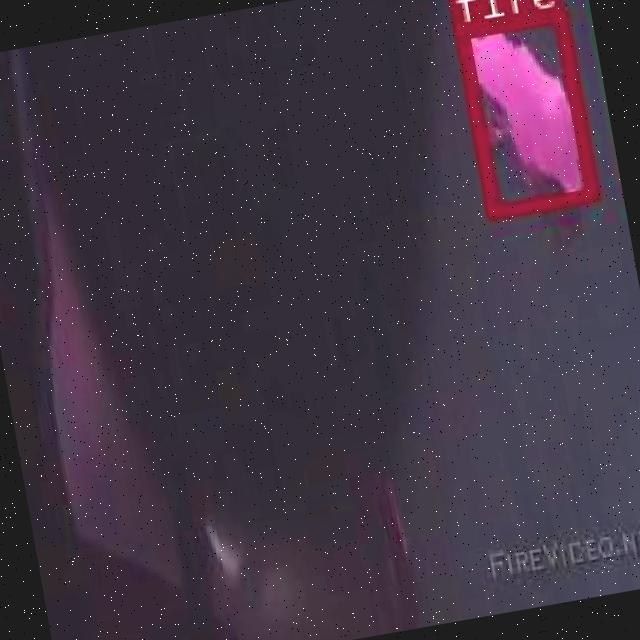fire: (452, 7, 594, 216)
